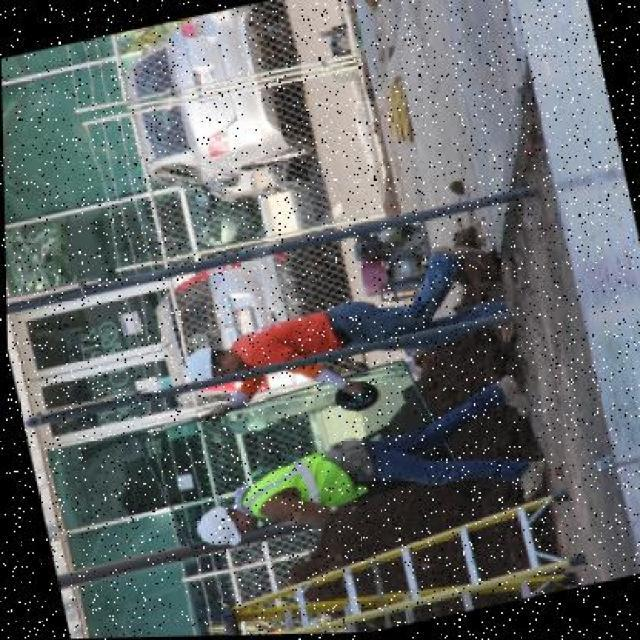helmet: (189, 494, 241, 548), (181, 342, 227, 386)
vest: (233, 440, 373, 527)
